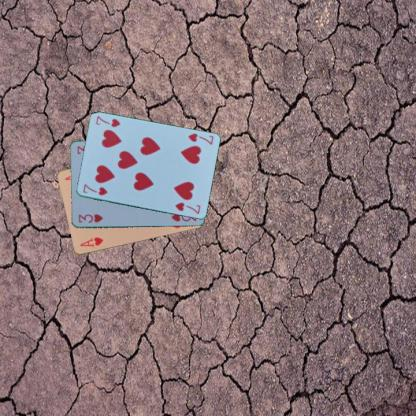3h: (76, 212, 104, 224)
7h: (80, 181, 109, 197), (185, 131, 214, 146)
Ah: (78, 234, 104, 249)
